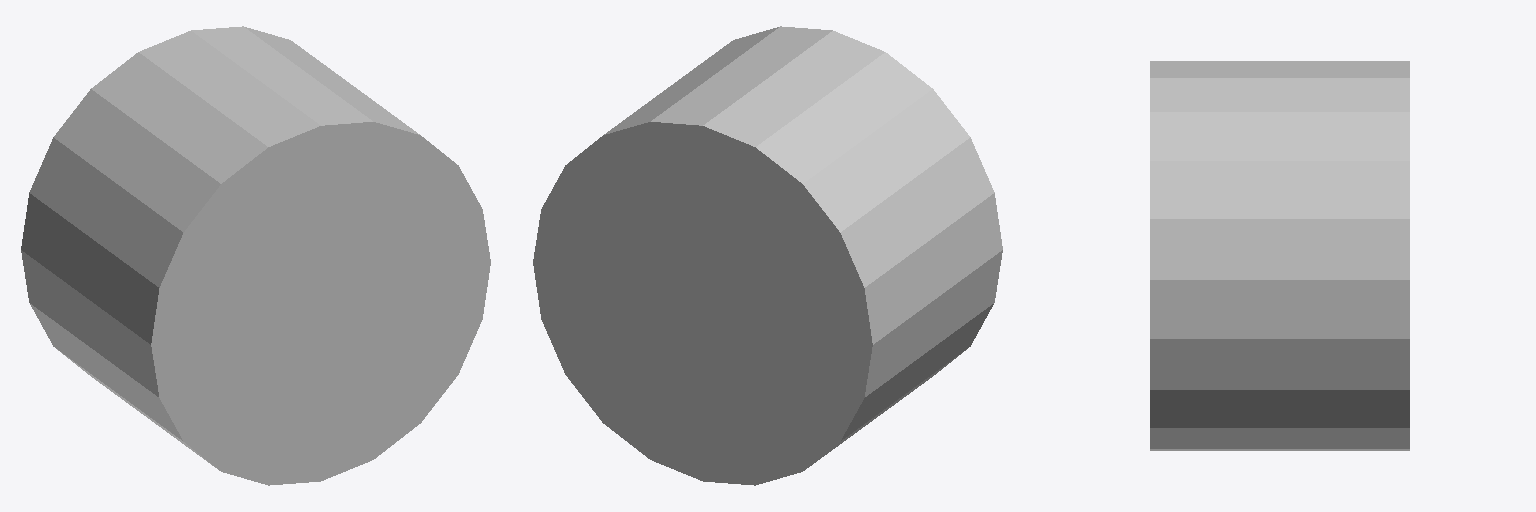
The model's file is Resaltado_Inion.obj.
3 views of the same model, side by side, from view 1: azimuth 30°, elevation 25°; view 2: azimuth 150°, elevation 25°; view 3: azimuth 270°, elevation 25° (orthographic).
Parts seen in each view (by area): view 1: polySurface2 Marcadores1; view 2: polySurface2 Marcadores1; view 3: polySurface2 Marcadores1.
Boxes of the visible parts, <box> form: polySurface2 Marcadores1: <box>21,26,490,485</box>; polySurface2 Marcadores1: <box>533,26,1002,485</box>; polySurface2 Marcadores1: <box>1150,61,1409,450</box>.
Bounding box in the file's own units: 0.0456 × 0.0456 × 0.0302.